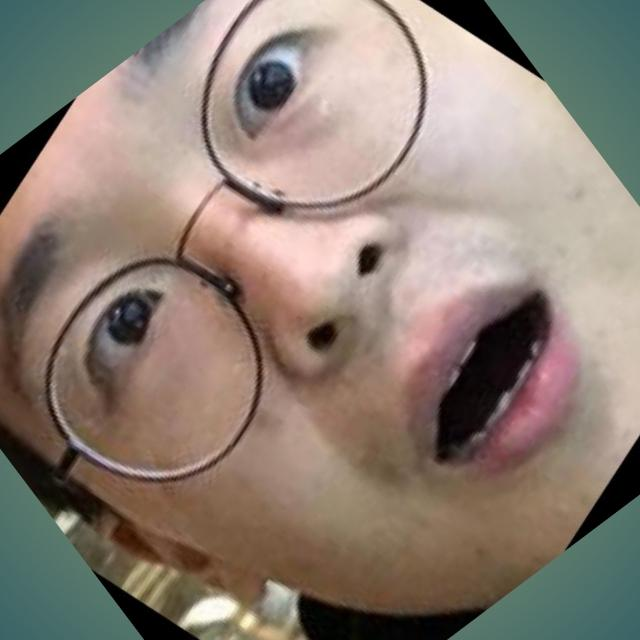Surprised: (5, 51, 640, 612)
